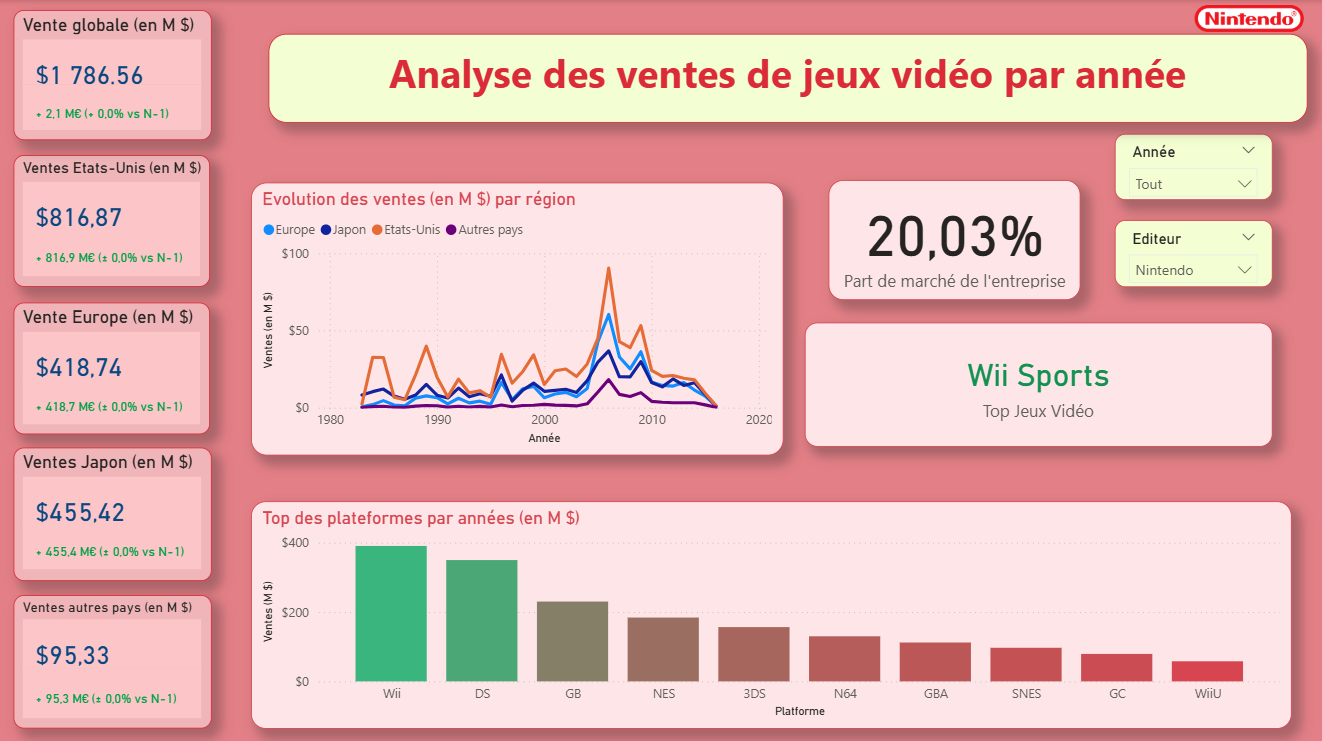

Layout of this report page (visuals, bound fields, positions):
{"tool":"powerbi","page":{"name":"Par année","canvas":[1280,720],"ordinal":0},"visuals":[{"type":"slicer","fields":{"Values":["vgsales.Year"]},"box":[1065.7,127.1,150,62.9],"z":0},{"type":"cardVisual","title":"Ventes Etats-Unis (en M $)","fields":{"Data":["Sum(vgsales.NA_Sales)","vgsales.NA Sales Change Display"]},"box":[17.1,147.1,187.1,125.7],"z":1000},{"type":"clusteredColumnChart","title":"Top des plateformes par années  (en M $)","fields":{"Y":["Sum(vgsales.Global_Sales)"],"Category":["vgsales.Platform"]},"box":[242.9,477.1,991.4,217.1],"z":2000},{"type":"lineChart","title":"Evolution des ventes  (en M $) par région","fields":{"Y":["Sum(vgsales.EU_Sales)","Sum(vgsales.JP_Sales)","Sum(vgsales.NA_Sales)","Sum(vgsales.Other_Sales)"],"Category":["vgsales.Year"]},"box":[242.5,173.8,507.5,260],"z":3000},{"type":"cardVisual","title":"Vente globale (en M $)","fields":{"Data":["Sum(vgsales.Global_Sales)","vgsales.Sales Change Only"]},"box":[17.1,10,188.6,124.3],"z":4000},{"type":"cardVisual","title":"Vente Europe  (en M $)","fields":{"Data":["Sum(vgsales.EU_Sales)","vgsales.EU Sales Change Display"]},"box":[17.1,288.6,187.1,125.7],"z":5000},{"type":"cardVisual","title":"Ventes Japon  (en M $)","fields":{"Data":["Sum(vgsales.JP_Sales)","vgsales.JP Sales Change Display"]},"box":[17.1,425.7,188.6,127.1],"z":6000},{"type":"cardVisual","title":"Ventes autres pays  (en M $)","fields":{"Data":["Sum(vgsales.Other_Sales)","vgsales.Other Sales Change Display"]},"box":[17.1,567.1,188.6,127.1],"z":7000},{"type":"slicer","fields":{"Values":["vgsales.Publisher"]},"box":[1065.7,210,150,64.3],"z":8000},{"type":"textbox","box":[259.5,32.1,989.3,84.5],"z":9000},{"type":"card","fields":{"Values":["vgsales.Top Game Name"]},"box":[770,307.1,445.7,118.6],"z":10000},{"type":"card","fields":{"Values":["vgsales.Publisher Market Share"]},"box":[792.9,171.4,240,114.3],"z":11000},{"type":"image","box":[1107.1,0,172.6,35.7],"z":12000}]}

Visuals, with their boxes in screenshot pixels (x1, y1, x2, y2), scaled from the page's 1280x720 canvas onto the 1322x741 screenshot:
slicer - vgsales.Year: (1101,131,1256,196)
"Ventes Etats-Unis (en M $)" cardVisual: (18,151,211,281)
"Top des plateformes par années  (en M $)" clusteredColumnChart: (251,491,1275,714)
"Evolution des ventes  (en M $) par région" lineChart: (250,179,775,446)
"Vente globale (en M $)" cardVisual: (18,10,212,138)
"Vente Europe  (en M $)" cardVisual: (18,297,211,426)
"Ventes Japon  (en M $)" cardVisual: (18,438,212,569)
"Ventes autres pays  (en M $)" cardVisual: (18,584,212,714)
slicer - vgsales.Publisher: (1101,216,1256,282)
textbox: (268,33,1290,120)
card - vgsales.Top Game Name: (795,316,1256,438)
card - vgsales.Publisher Market Share: (819,176,1067,294)
image: (1143,0,1321,37)
